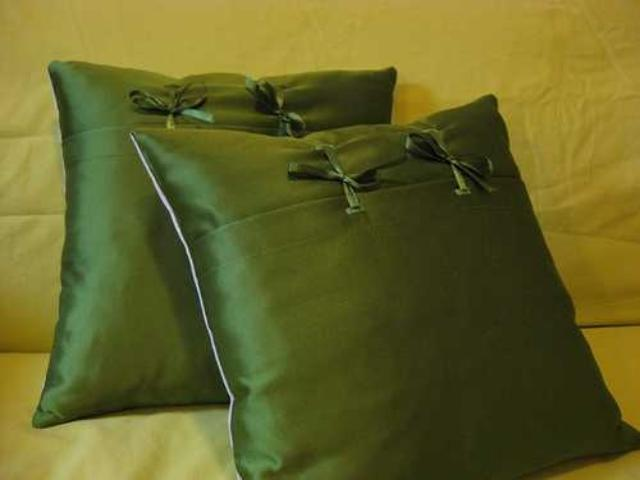pillow: (128, 92, 638, 478), (30, 57, 398, 428)
